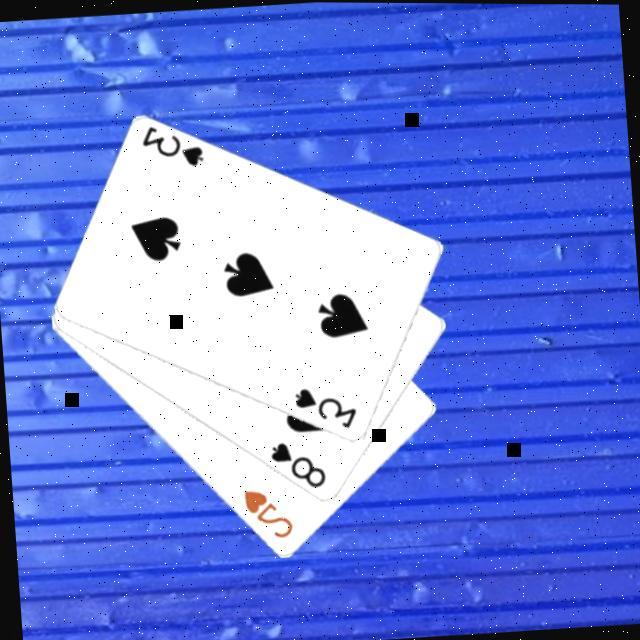2H: (237, 482, 296, 543)
3S: (134, 118, 206, 172), (289, 379, 358, 434)
8S: (263, 434, 328, 492)
